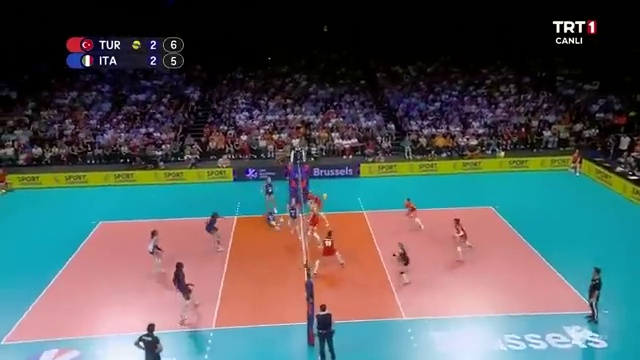ball: (319, 189, 330, 200)
